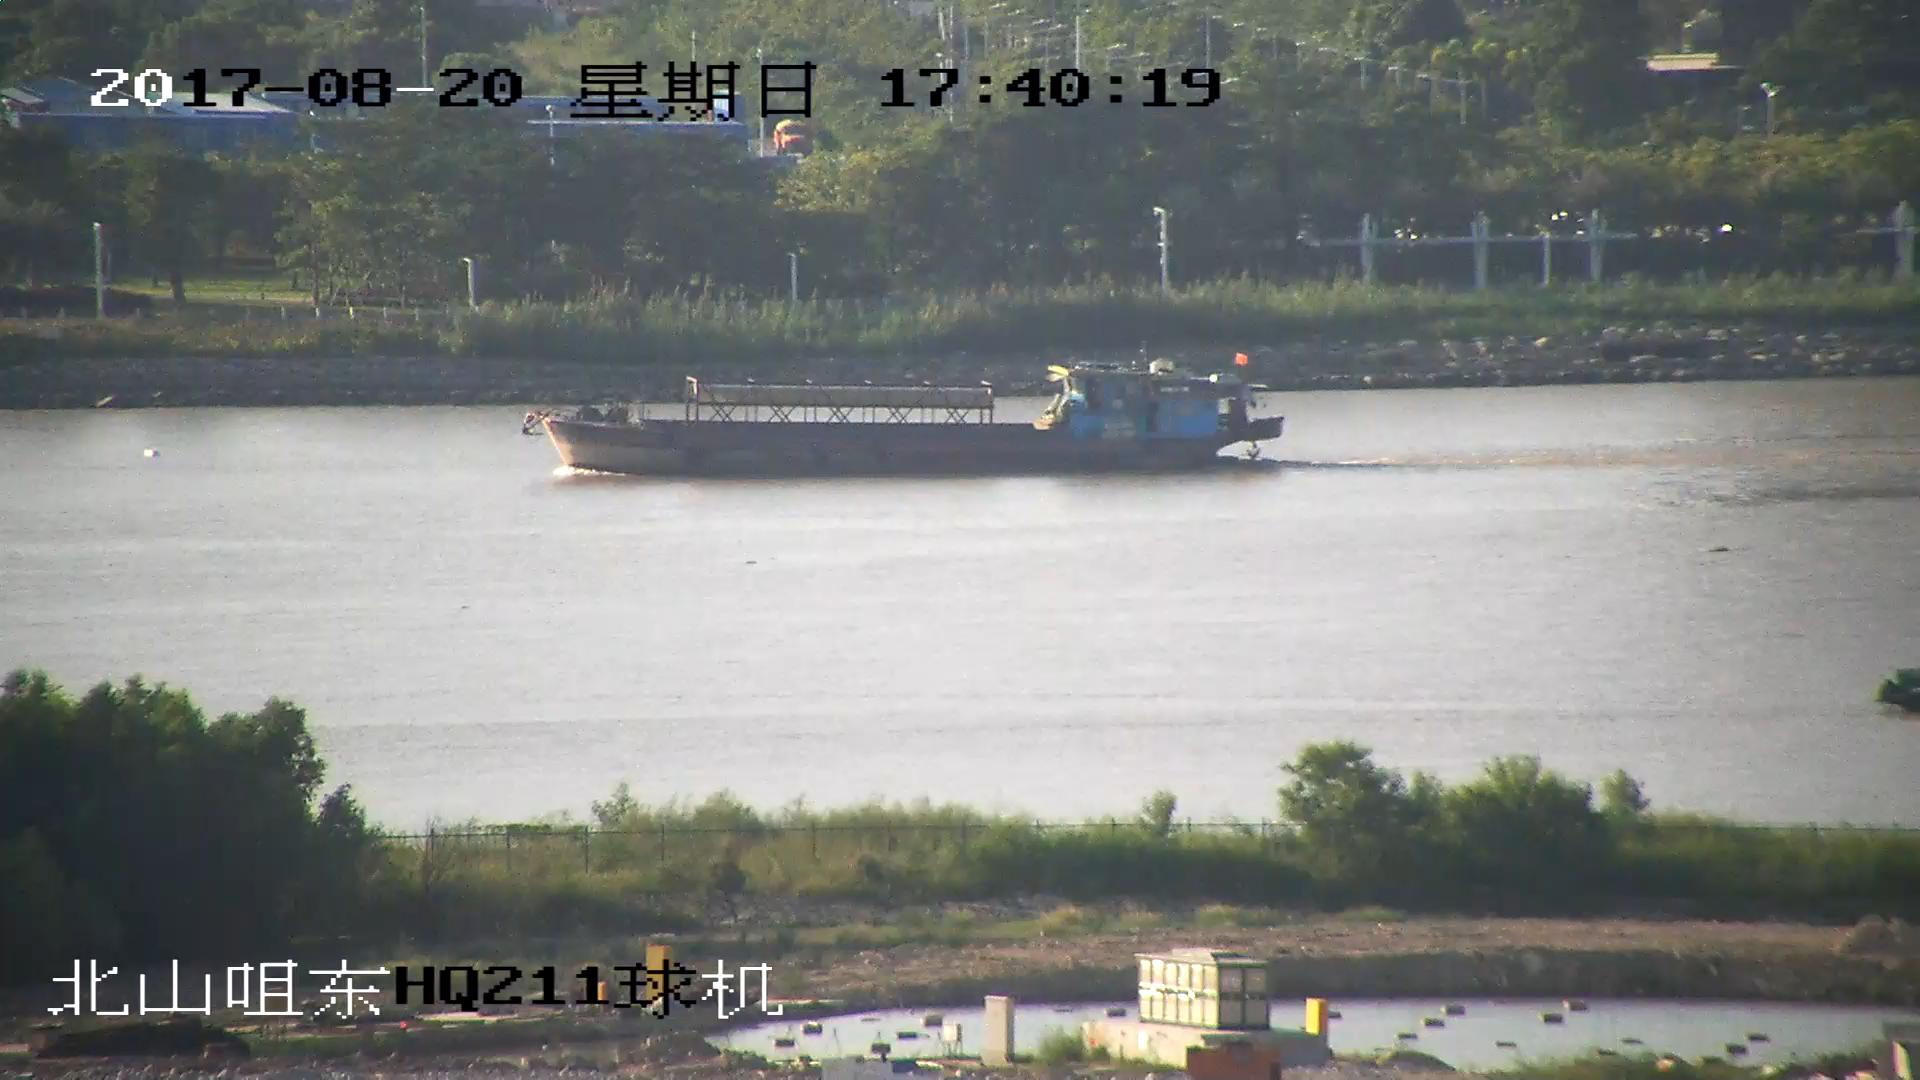fishing boat: (522, 348, 1285, 470)
